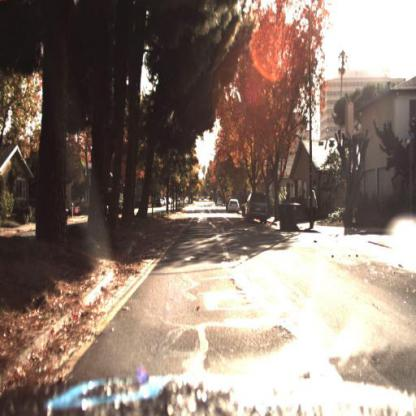car: (242, 190, 270, 226), (229, 195, 243, 218), (228, 198, 241, 214)
pedestrian: (309, 185, 319, 231), (312, 189, 321, 228)
